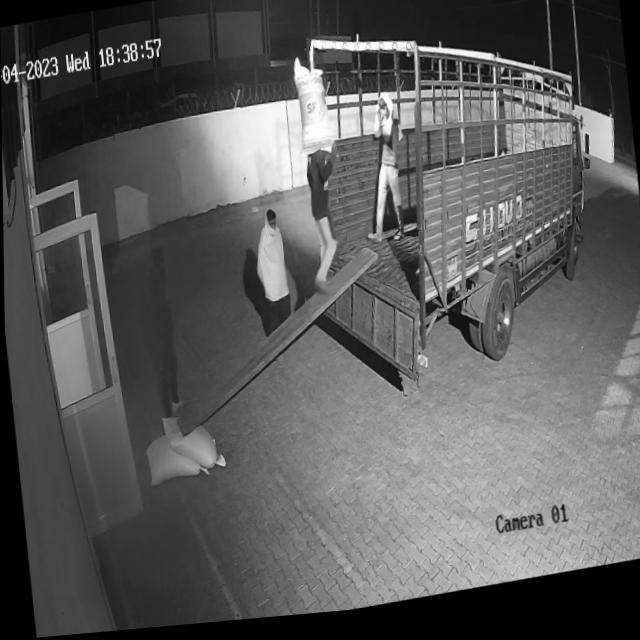sack: (291, 54, 336, 163), (160, 411, 223, 478), (141, 431, 205, 487)
